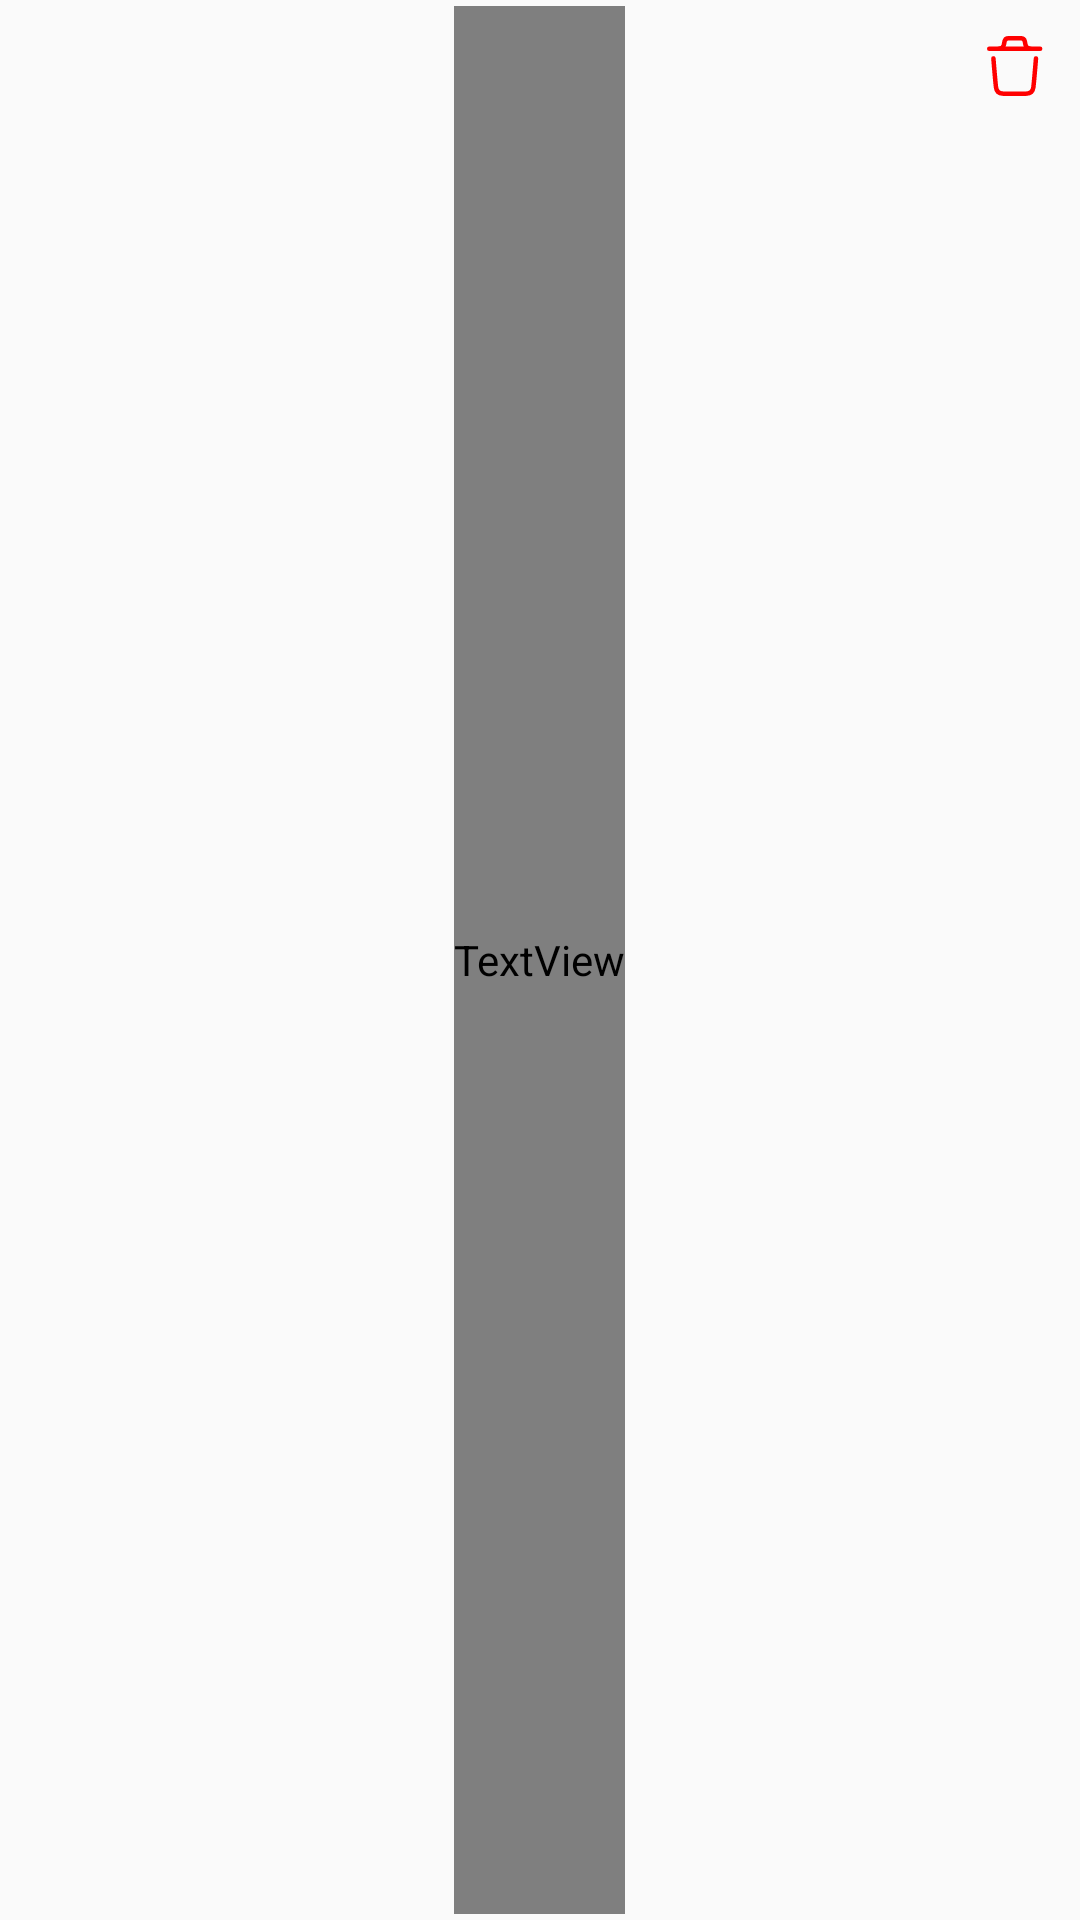

Screen size 1080×1920. Icon name, then its center in pixels as [x,y]:
delete: [1015,66]
